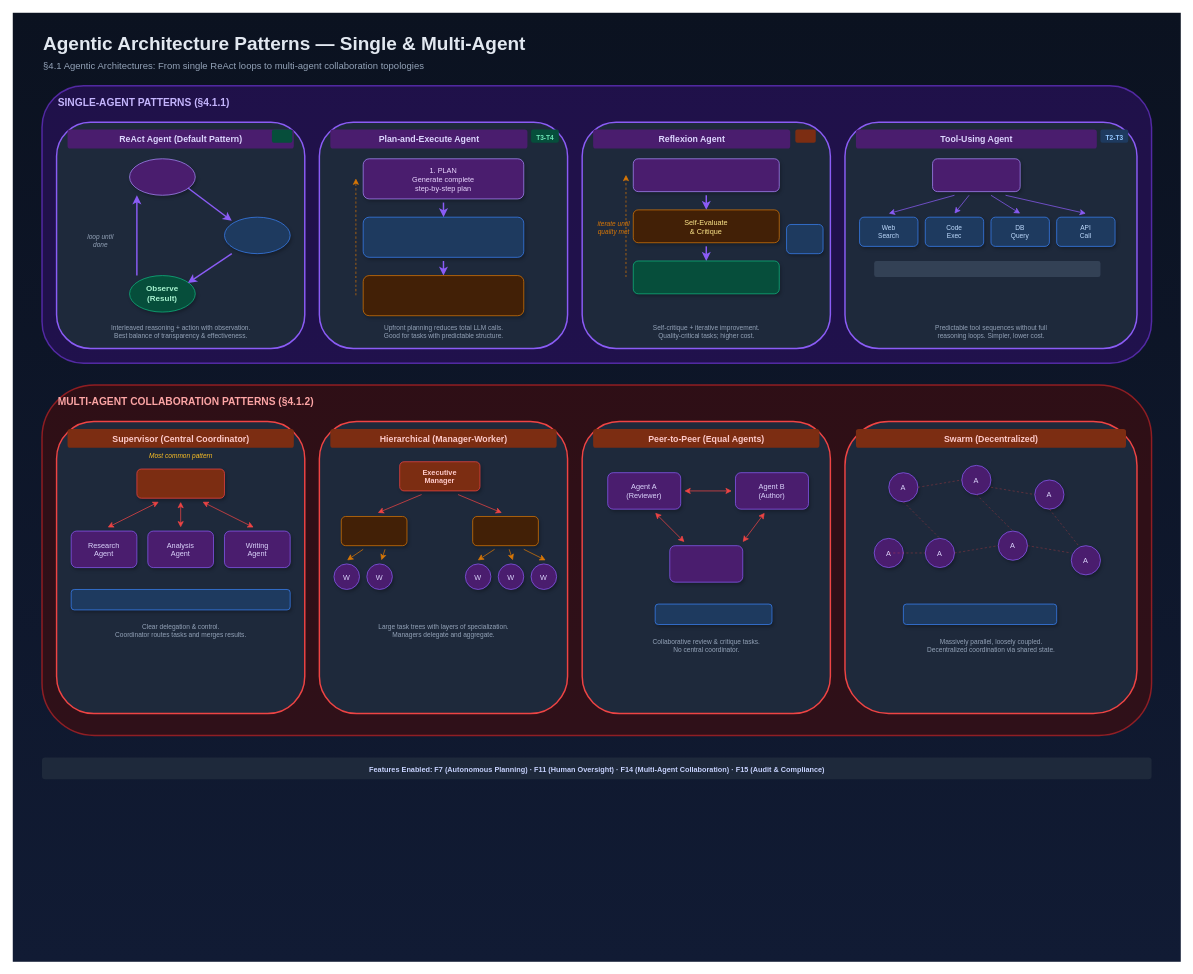
The diagram is 1193 pixels wide and 974 high, and some of its shapes have lost their labels. Here are the shapes that lost their labels. From the top down, the centre of each, then its label:
At point 282,135: "T3".
At point 805,135: "T4".
At point 163,177: "Reason".
At point 707,176: "Generate Initial Output".
At point 977,176: "LLM decides which tool".
At point 258,236: "Act (Tool Call)".
At point 444,238: "2. EXECUTE Run each step sequentially".
At point 805,240: "Episodic Memory".
At point 707,278: "Improve Based on Reflection".
At point 987,269: "MCP / Function Calling (§3.4)".
At point 444,296: "3. RE-PLAN (if needed) Adapt plan based on execution results".
At point 181,484: "SUPERVISOR".
At point 374,532: "Team A Lead".
At point 506,532: "Team B Lead".
At point 706,564: "Agent C (Critic)".
At point 181,600: "Shared Memory / Blackboard (§3.2.4)".
At point 714,615: "Shared Memory (§3.2.4)".
At point 980,615: "Distributed State Store (§3.2.4)".
